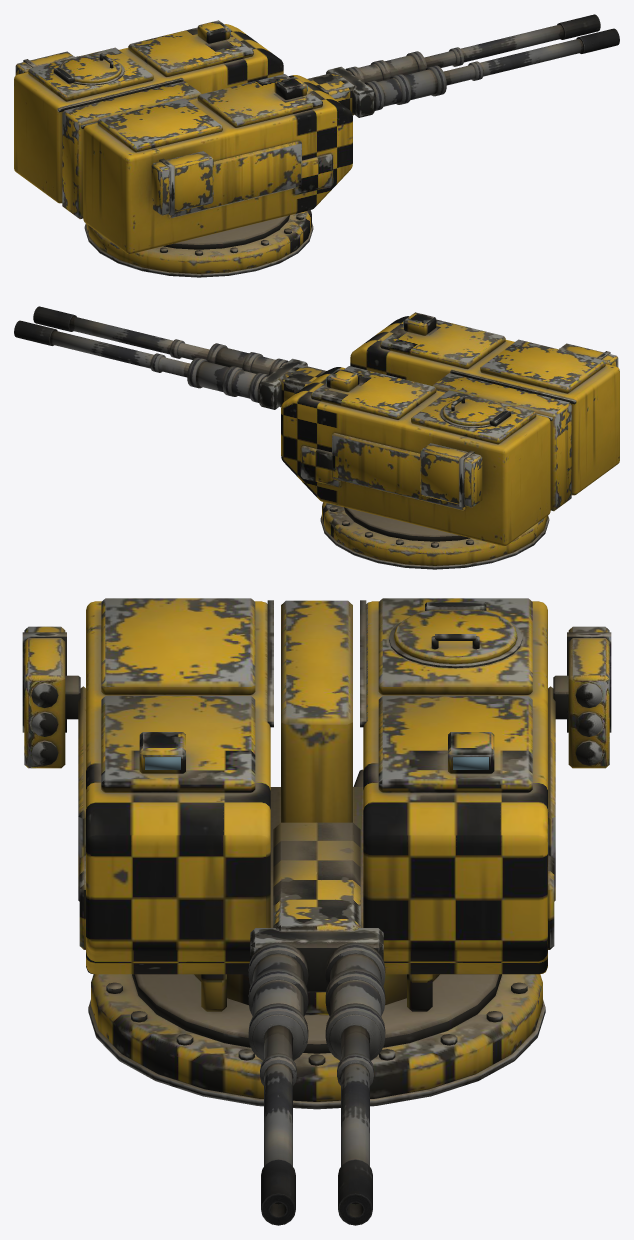
The model's file is turret_kit_t1_chequer.glb.
3 renders of one model, top to bottom at view 1: azimuth 30°, elevation 25°; view 2: azimuth 150°, elevation 25°; view 3: azimuth 270°, elevation 25°, orthographic. The views are drawn at different scales.
Visible parts, largest first — view 1: turret_twin_t1, guns, pods; view 2: turret_twin_t1, guns, pods; view 3: turret_twin_t1, guns, pods.
Boxes of the visible parts, left/top/right/bottom form: turret_twin_t1: left=14, top=20, right=352, bottom=277; guns: left=308, top=14, right=619, bottom=117; pods: left=15, top=51, right=213, bottom=215; turret_twin_t1: left=281, top=312, right=619, bottom=569; guns: left=14, top=306, right=325, bottom=409; pods: left=420, top=343, right=618, bottom=507; turret_twin_t1: left=78, top=598, right=555, bottom=1109; guns: left=248, top=822, right=385, bottom=1225; pods: left=22, top=626, right=611, bottom=768.
Size of the model in its own units: 2.41 by 0.695 by 1.15.
4 materials, 3 textured.
